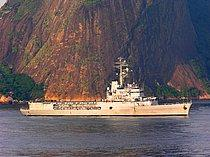MIL_Ship: (19, 58, 196, 120)
